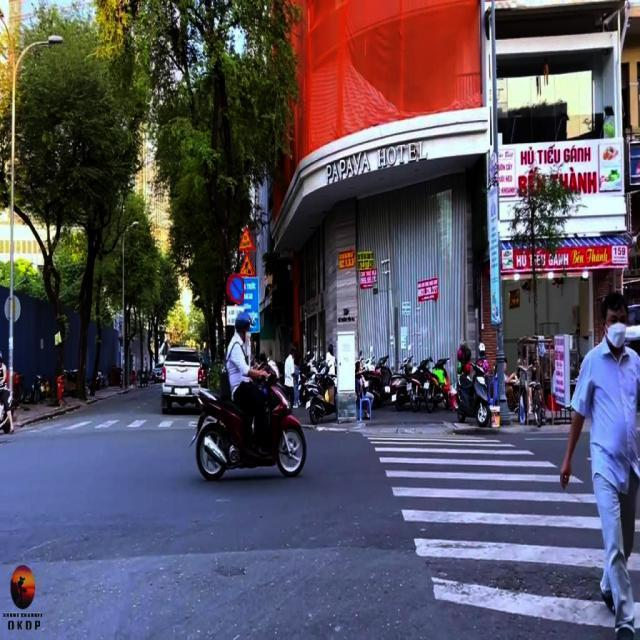131a-cam-do-xe: (224, 272, 246, 303)
227-cong-truong: (238, 256, 256, 276)
245-di-cham: (238, 228, 256, 252)
